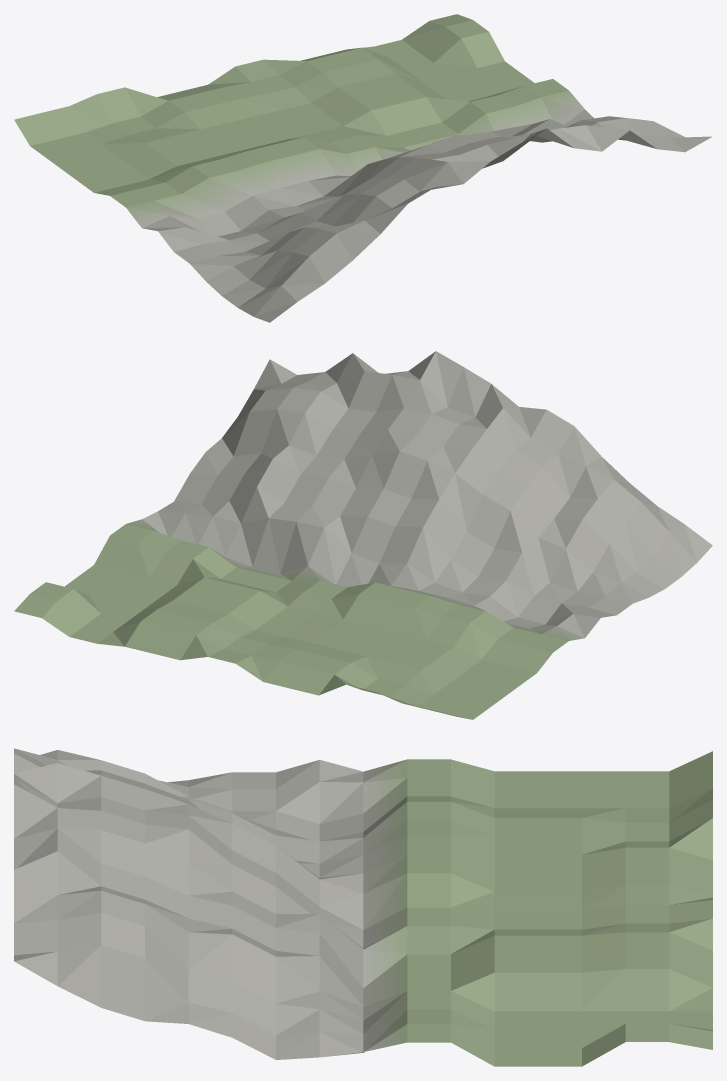
3 views of the same model, one above another, from view 1: azimuth 30°, elevation 25°; view 2: azimuth 150°, elevation 25°; view 3: azimuth 270°, elevation 25° (orthographic). The views are drawn at different scales.
Size of the model in its own units: 32 by 9.48 by 32.
